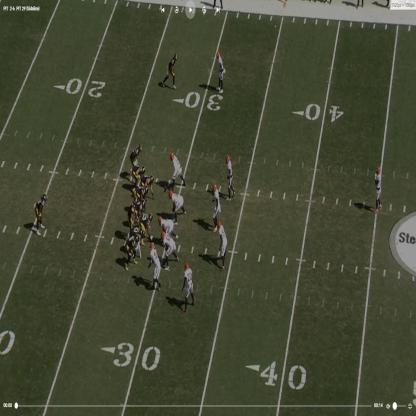CENTER: (140, 212, 152, 241)
DB: (184, 262, 193, 306), (215, 52, 224, 91), (228, 156, 235, 202), (375, 169, 381, 210)
LB: (217, 222, 229, 265), (152, 246, 162, 292), (170, 152, 183, 185), (210, 182, 220, 220)
QB: (128, 196, 137, 230)
SKILL: (166, 54, 179, 86), (35, 196, 46, 233), (147, 174, 157, 202), (128, 166, 146, 180), (130, 144, 142, 163)
